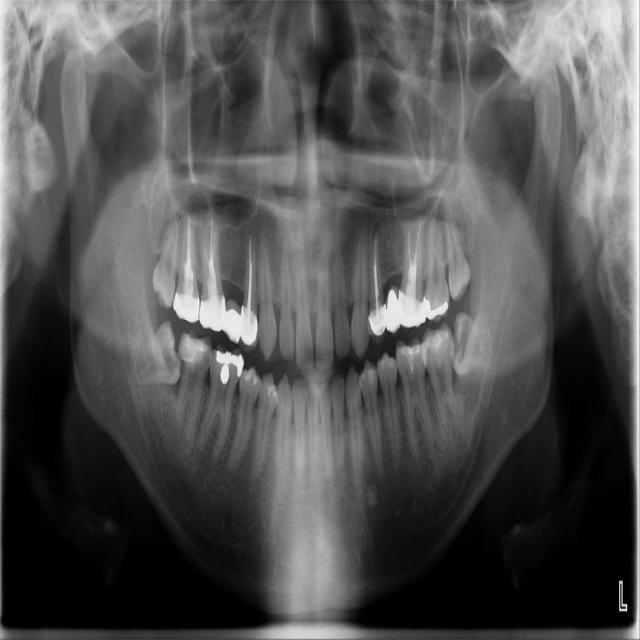3M ESPE Implant: (149, 206, 181, 310)
52: (191, 288, 266, 348), (363, 282, 431, 339), (412, 323, 451, 368), (214, 345, 248, 385), (175, 329, 211, 366), (169, 292, 203, 325), (418, 296, 449, 323), (401, 345, 424, 373), (242, 367, 262, 388), (267, 383, 277, 399)
73: (399, 217, 432, 303), (170, 215, 199, 300), (195, 222, 225, 302), (368, 230, 385, 317), (242, 233, 258, 315), (576, 559, 604, 573)
BioHorizons Implant: (425, 218, 452, 324)
BioLife Implant: (441, 196, 474, 304)
Biomet 3i Implant: (447, 312, 492, 376)
Blue Sky Bio Implant: (418, 323, 463, 444)
Caries: (172, 215, 209, 326)
Implant: (173, 331, 213, 443)
Keystone Dental Implant: (132, 321, 182, 388)
